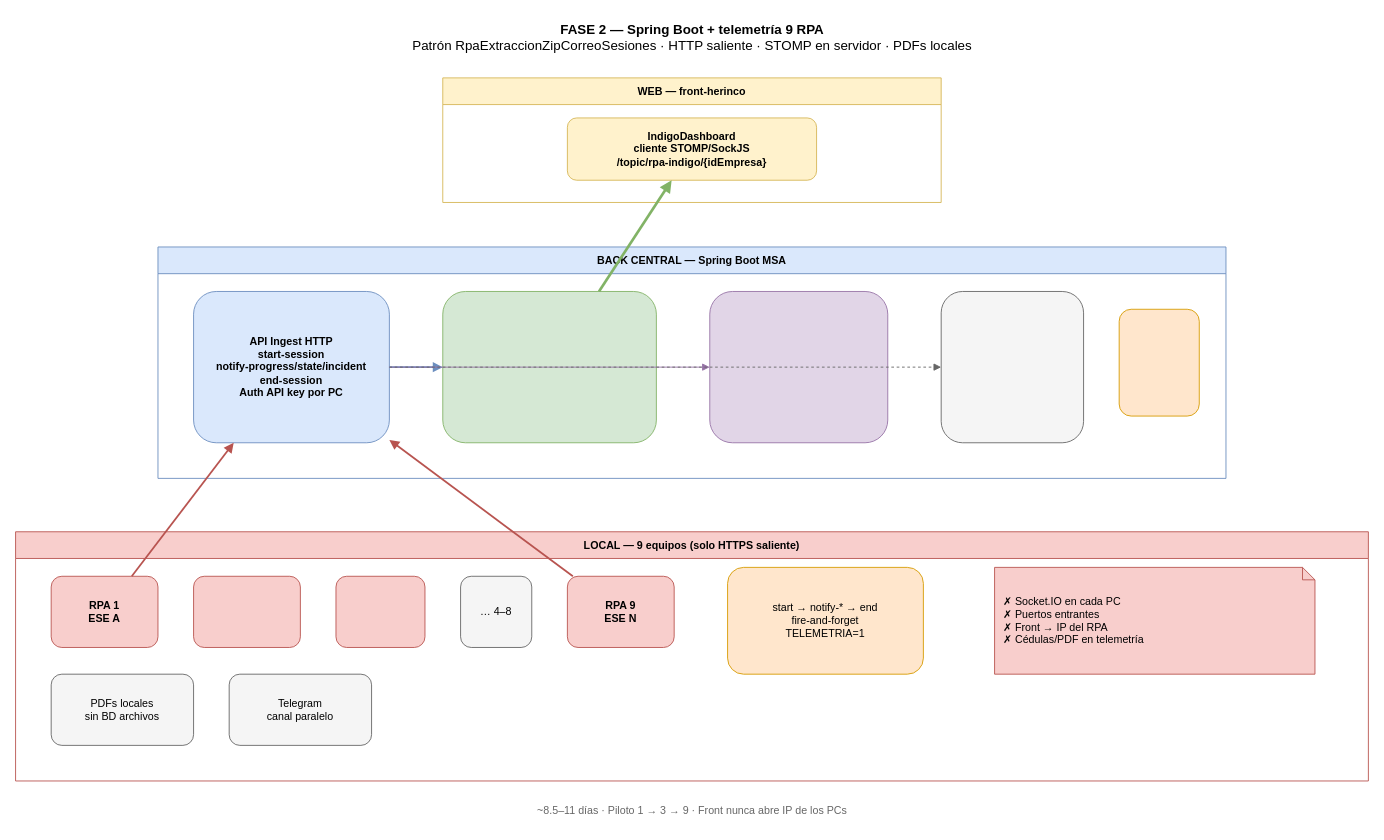
Some shapes in this 1384 by 840 pixel diagram are drawn without their labels. Each missing label, with the centre of its shape:
Azure gpt-4o-mini cuotas + recomendaciones solo desde el back: (798,367)
Broker STOMP /topic/rpa-indigo/{empresa} push al front (rol Socket.IO servidor): (549,367)
Keycloak + idEmpresa: (1158,362)
Memoria o JPA opcional sesiones/eventos: (1012,367)
RPA 2 ESE B: (246,611)
RPA 3: (380,611)
